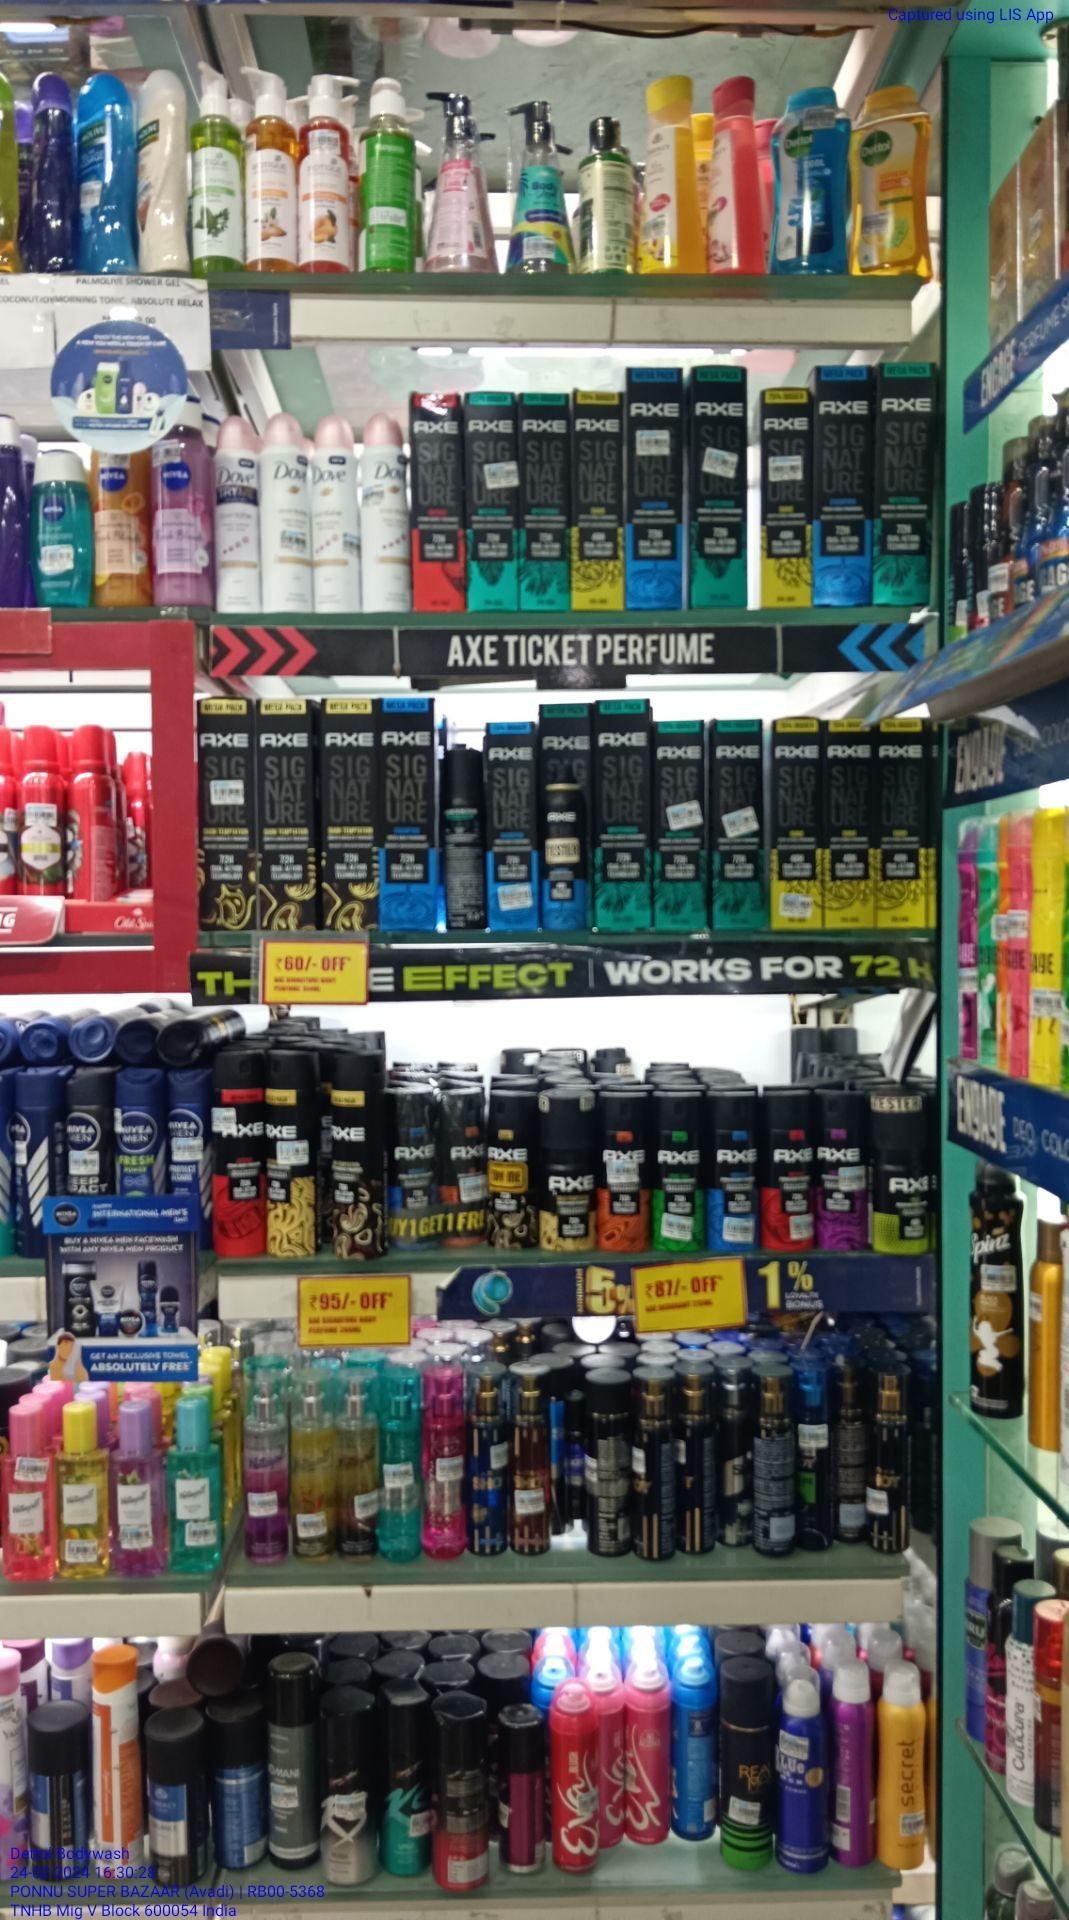Dettol_Bodywash_Cool: (770, 79, 849, 276)
Dettol_Bodywash_Refresh: (853, 79, 931, 275)
Nivea_Shower_Gel_Frangipani_and_Oil_250ML: (33, 453, 93, 607)
Palmolive_Aroma_Moments_Feel_The_Massage_Shower_Gel_250ML: (71, 72, 134, 275)
Palmolive_Coconut_Joy_Exfoliating_Body_Wash_250ML: (141, 67, 192, 275)
